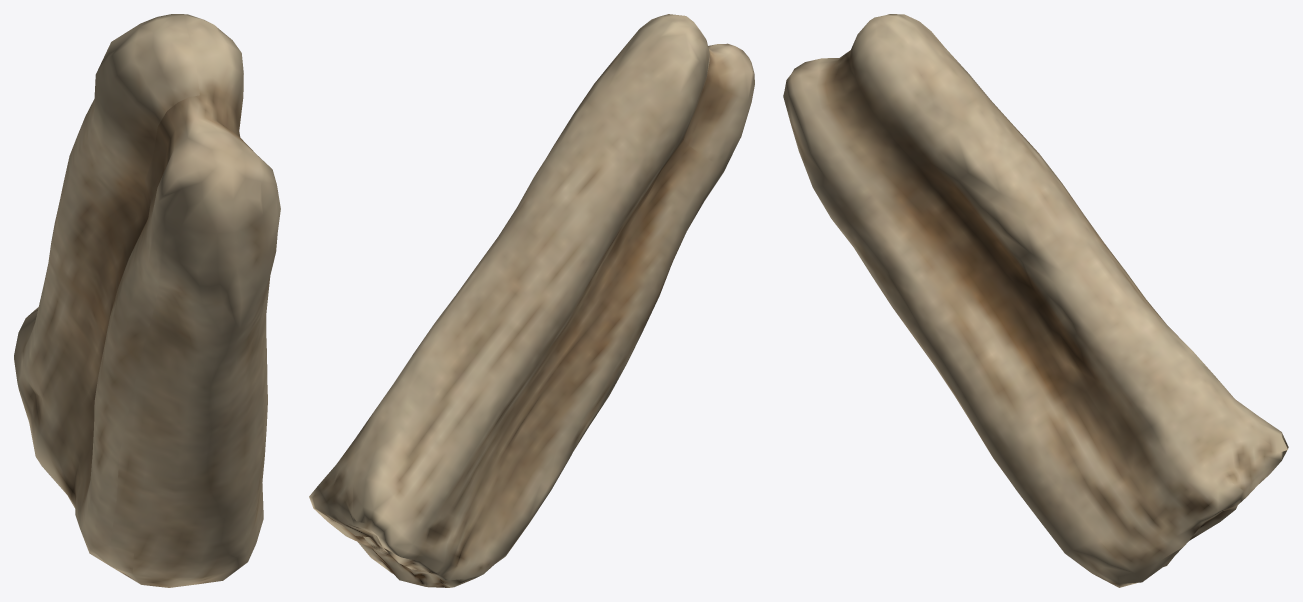
File: Maxilary_Molar.glb
3 renders of one model, left to right at view 1: azimuth 30°, elevation 25°; view 2: azimuth 150°, elevation 25°; view 3: azimuth 270°, elevation 25°, orthographic. The views are drawn at different scales.
Parts seen in each view (by area): view 1: Maxilary_Molar.glb; view 2: Maxilary_Molar.glb; view 3: Maxilary_Molar.glb.
Part boxes in pixels (x1,y1,x2,y2): Maxilary_Molar.glb: [14, 14, 280, 587]; Maxilary_Molar.glb: [309, 14, 754, 587]; Maxilary_Molar.glb: [783, 14, 1288, 587].
Size of the model in its own units: 0.0358 by 0.0742 by 0.0678.
1 material, 1 textured.
